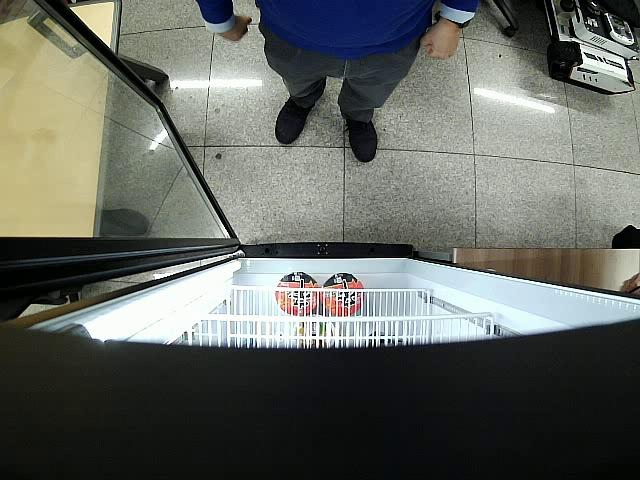00_hand: (420, 19, 459, 60), (217, 16, 253, 41)
01_shinRamen_L: (320, 273, 364, 316)
